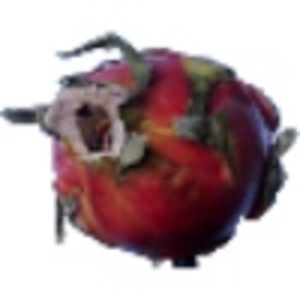pitaia: (1, 32, 300, 271)
